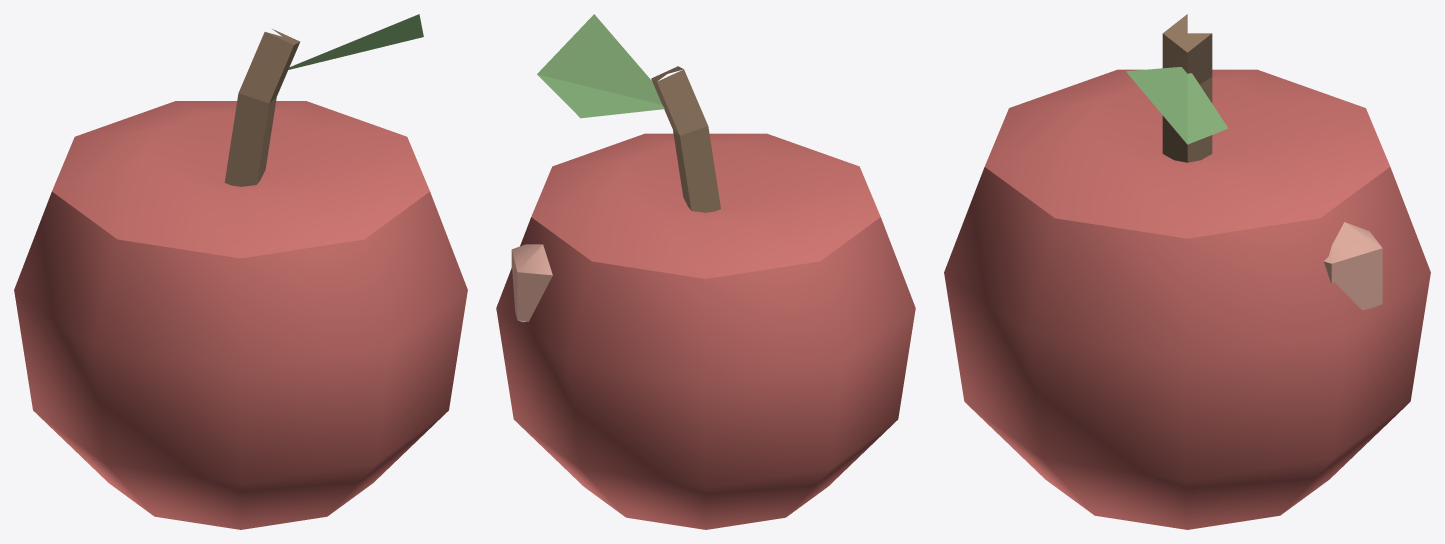
The model's file is apple.gltf.
3 renders of one model, left to right at view 1: azimuth 30°, elevation 25°; view 2: azimuth 150°, elevation 25°; view 3: azimuth 270°, elevation 25°, orthographic. The views are drawn at different scales.
Parts seen in each view (by area): view 1: apple; view 2: apple; view 3: apple.
Part boxes in pixels (x1,y1,x2,y2): apple: (14,14,467,529); apple: (496,14,915,529); apple: (944,14,1430,529).
Bounding box in the file's own units: 0.2328 × 0.26 × 0.2364.
